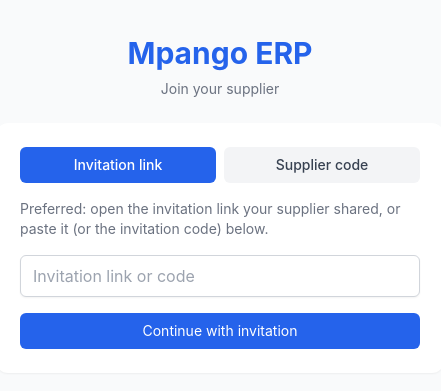
Test: DC-12R1-MVP-L1-J1-H2-A-R1: dual-entry self-join › T3: unknown supplier code -> neutral miss, zero register POSTs
Click the tab "Supplier code" at (322, 165), box [224, 147, 420, 183]
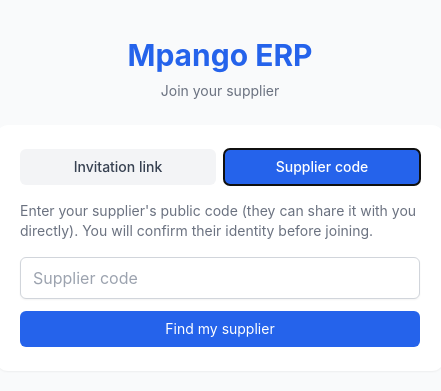
Type "WRONG99" into the field labelled "Supplier code" at (220, 278), box [20, 257, 420, 299]
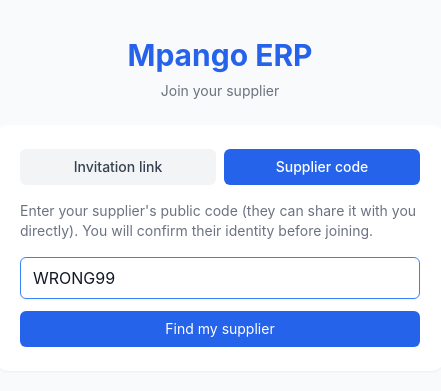
Click the button "Find my supplier" at (220, 329), box [20, 311, 420, 347]
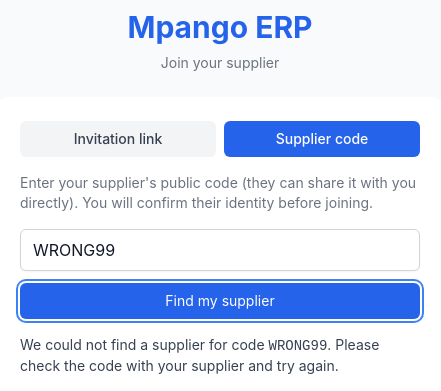
expect the message shows "could not find a supplier": met, box [20, 336, 265, 352]
